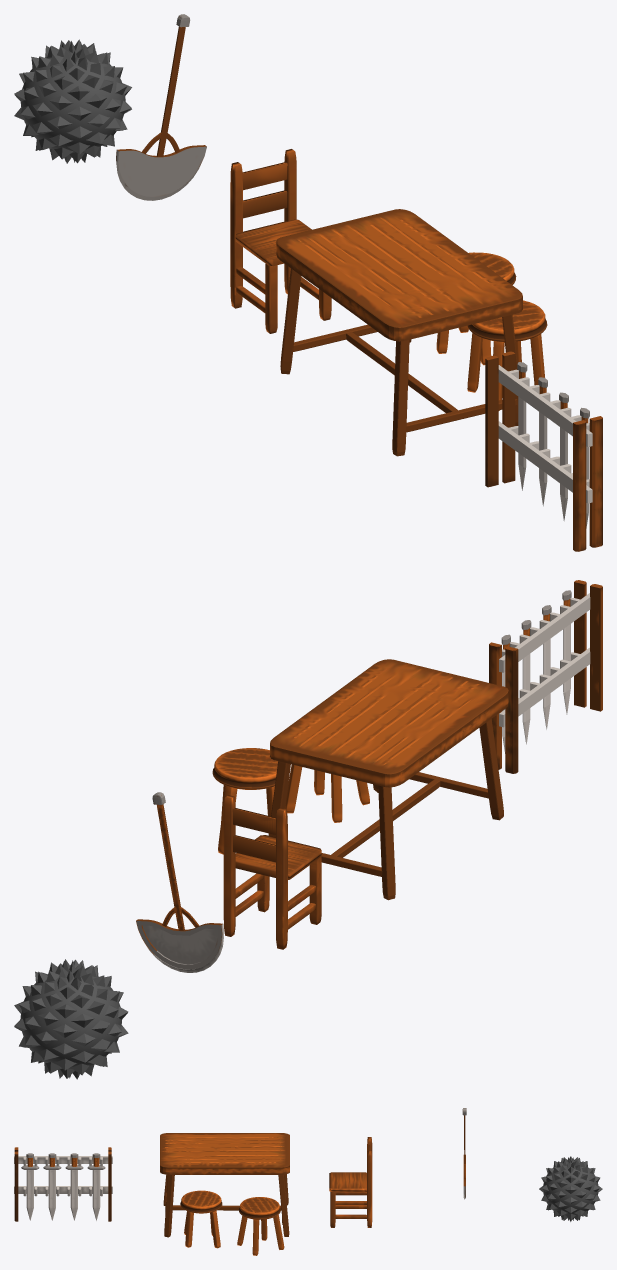
Rendered from Stage 2 Asset.fbx.
3 renders of one model, top to bottom at view 1: azimuth 30°, elevation 25°; view 2: azimuth 150°, elevation 25°; view 3: azimuth 270°, elevation 25°, orthographic. The views are drawn at different scales.
Visible parts, largest first — view 1: Cube.001, spikeball, Cube.016, Cube.004, Cylinder.002, Cube.006, Cylinder.001, Cube, Cylinder; view 2: Cube.001, spikeball, Cube.016, Cube.004, Cylinder.002, Cube.006, Cylinder, Cube, Cylinder.001; view 3: Cube.001, spikeball, Cube, Cube.016, Cylinder, Cylinder.001, Cube.006, Cube.004, Cylinder.002.
Boxes of the visible parts, x1=… form: Cube.001: x1=276, y1=209, x2=522, y2=456; spikeball: x1=14, y1=39, x2=131, y2=163; Cube.016: x1=230, y1=149, x2=331, y2=333; Cube.004: x1=485, y1=351, x2=602, y2=551; Cylinder.002: x1=116, y1=14, x2=206, y2=200; Cube.006: x1=498, y1=365, x2=592, y2=503; Cylinder.001: x1=467, y1=300, x2=547, y2=410; Cube: x1=517, y1=362, x2=589, y2=528; Cylinder: x1=436, y1=252, x2=516, y2=365; Cube.001: x1=268, y1=659, x2=508, y2=900; spikeball: x1=14, y1=959, x2=128, y2=1079; Cube.016: x1=223, y1=795, x2=321, y2=949; Cube.004: x1=489, y1=580, x2=602, y2=773; Cylinder.002: x1=136, y1=792, x2=223, y2=972; Cube.006: x1=499, y1=593, x2=590, y2=727; Cylinder: x1=212, y1=748, x2=278, y2=854; Cube: x1=501, y1=590, x2=571, y2=753; Cylinder.001: x1=285, y1=764, x2=369, y2=822; Cube.001: x1=160, y1=1133, x2=289, y2=1237; spikeball: x1=539, y1=1156, x2=602, y2=1221; Cube: x1=21, y1=1153, x2=105, y2=1220; Cube.016: x1=329, y1=1137, x2=372, y2=1227; Cylinder: x1=237, y1=1197, x2=284, y2=1255; Cylinder.001: x1=180, y1=1190, x2=222, y2=1248; Cube.006: x1=14, y1=1156, x2=112, y2=1196; Cube.004: x1=14, y1=1147, x2=111, y2=1221; Cylinder.002: x1=462, y1=1108, x2=466, y2=1199.
Size of the model in its own units: 472 by 465 by 2153.
Materials: 8 (7 with a texture image).
